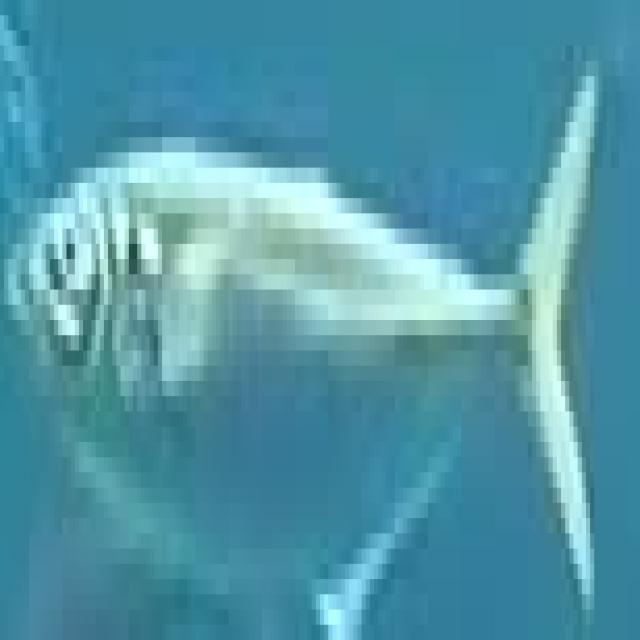fish: (4, 15, 640, 640)
